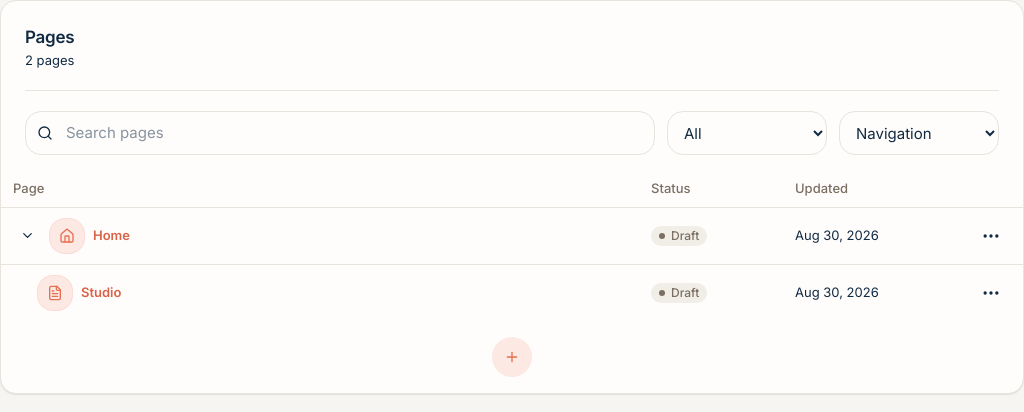
Test case: SitePagesPanel › nests child pages under an expandable parent
The width and height of the screenshot is (1024, 412).
Click the button named "Collapse child pages" at (27, 236), box [13,222,41,250]
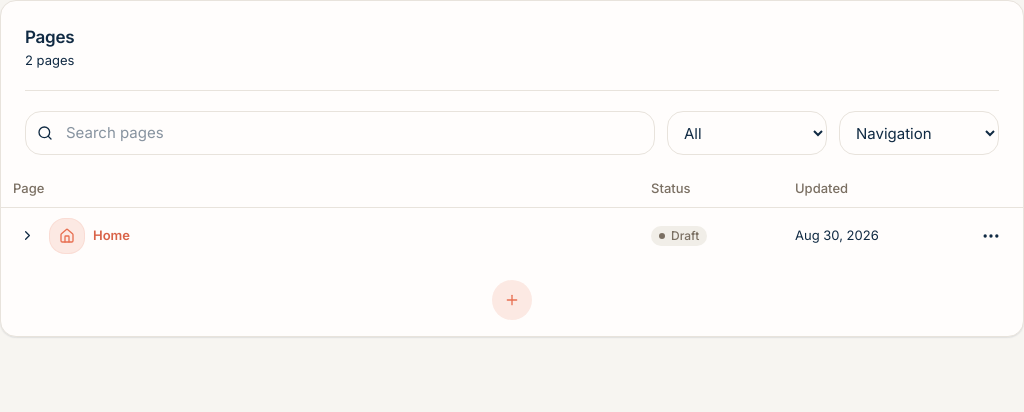
Expected: the link "Studio" is gone
